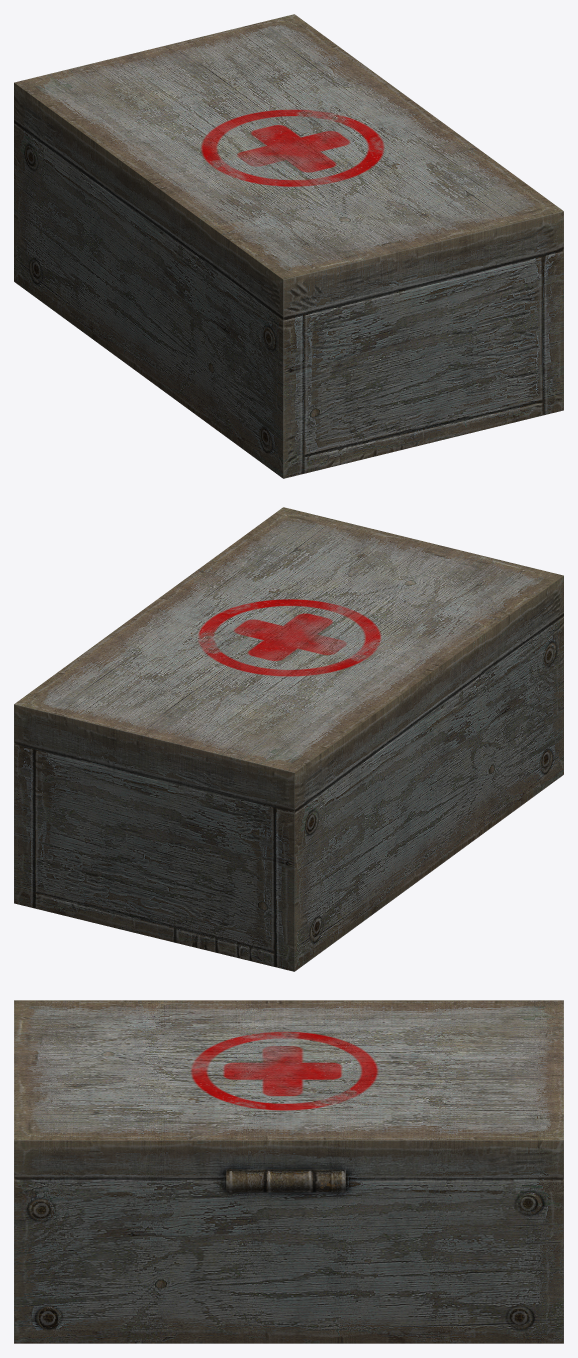
File: medkit.glb
The picture shows the model from 3 angles, top to bottom: view 1: azimuth 30°, elevation 25°; view 2: azimuth 150°, elevation 25°; view 3: azimuth 270°, elevation 25°; orthographic projection. The views are drawn at different scales.
Parts seen in each view (by area): view 1: medkit; view 2: medkit; view 3: medkit.
Boxes of the visible parts, x1=… form: medkit: x1=14, y1=14, x2=563, y2=478; medkit: x1=14, y1=507, x2=563, y2=971; medkit: x1=14, y1=1000, x2=563, y2=1343.
Size of the model in its own units: 0.4101 by 0.2689 by 0.6595.
1 material, 1 textured.
